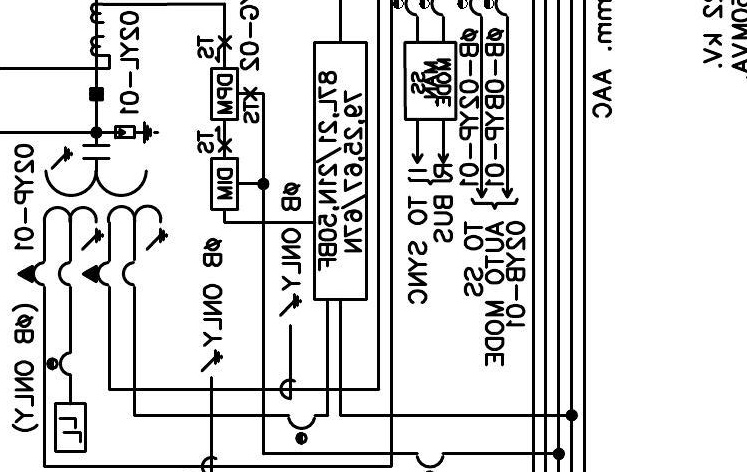115_cvt_1p: (16, 143, 169, 289)
115_la: (114, 120, 160, 144)
DIM: (210, 157, 239, 211)
DPM: (210, 67, 239, 121)
LL: (54, 402, 87, 453)
ss_man_mode: (403, 41, 458, 121)
